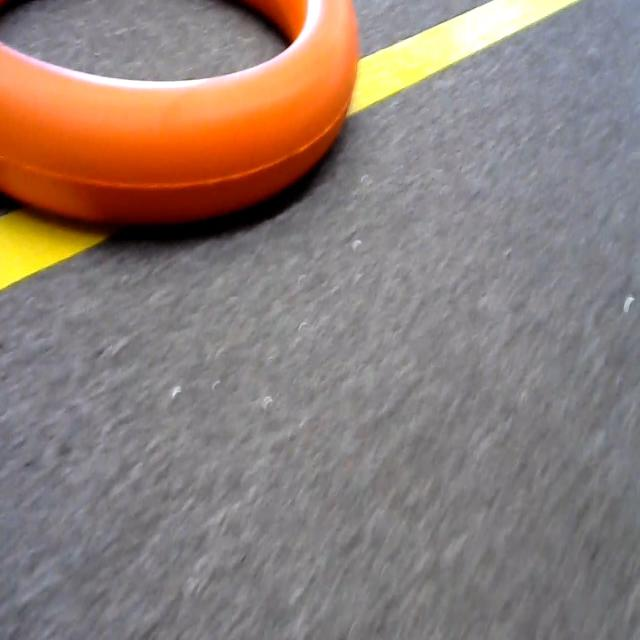note: (0, 0, 365, 227)
